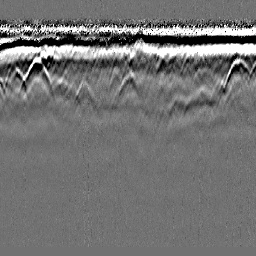cavity: (117, 70, 139, 99)
